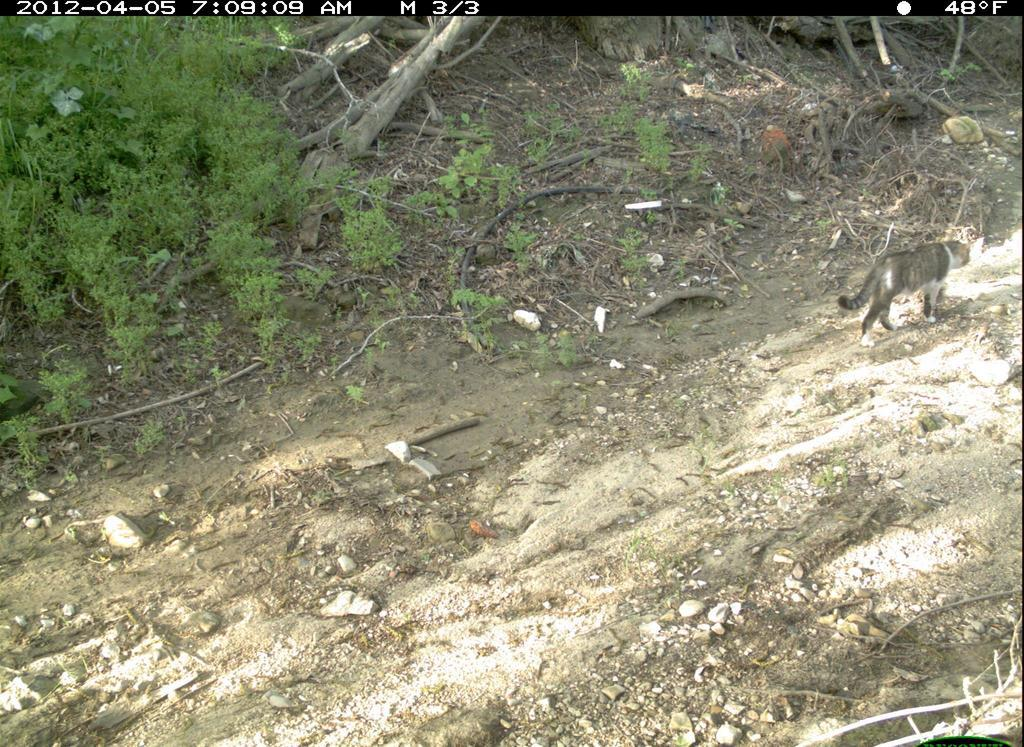cat: (835, 223, 984, 353)
